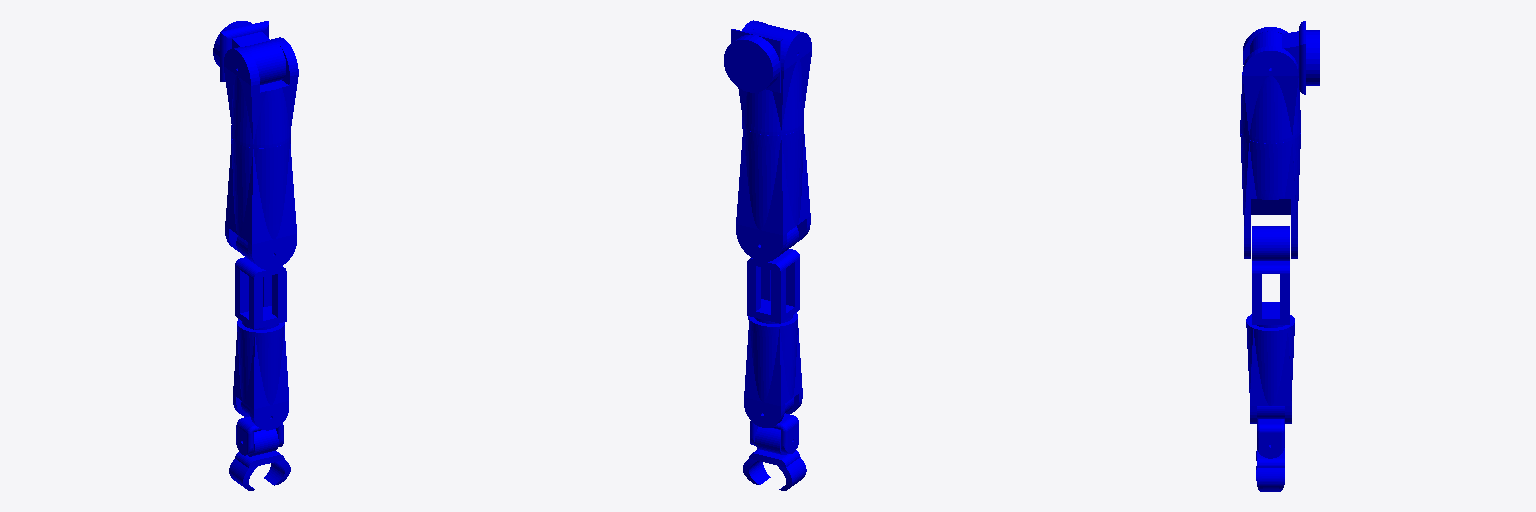
The robot description file, URDF, robot "brazo":
<?xml version="1.0"?>

<robot name="brazo">

  <!-- Color of materials -->
  <material name="white">
    <color rgba="1 1 1 1"/>
  </material>
  <material name="blue">
    <color rgba="0 0 1 1"/>
  </material>
  <material name="black">
    <color rgba="0 0 0 1"/>
  </material>

  <link name="base">
    <visual>
      <geometry>
        <cylinder length="0.02" radius="0.04"/>
      </geometry>
      <origin rpy="1.5708 0 0" xyz="0 0.01 0"/>
      <material name="blue" />
    </visual>
    <collision>
      <origin rpy="1.5708 0 0" xyz="0 0.01 0"/>
      <geometry>
        <cylinder length="0.02" radius="0.04"/>
      </geometry>
    </collision>
    <inertial>
      <mass value="1" />
      <inertia ixx="0.000508214" ixy="0.0" ixz="0.0" iyy="0.000498718" iyz="0.00001661" izz="0.000335888" />
    </inertial>
  </link>
  <gazebo reference="base">
    <material>Gazebo/White</material>
  </gazebo>

  <joint name="base_joint" type="revolute">
    <parent link="base"/>
    <child link="hombro"/>
    <origin rpy="1.5708 0 0" xyz="0 0 0"/>
    <axis xyz="0 0 1" />
    <limit effort="300" velocity="0.1" lower="-3.1" upper="3.1"/>
    <dynamics damping="50" friction="1"/>
  </joint>

  <link name="hombro">
    <visual>
      <geometry>
        <mesh filename="package://proy/meshes/Hombro.stl" scale="0.01 0.01 0.01"/>
      </geometry>
      <origin rpy="0 0 0" xyz="-0.04 -0.04 0"/>
      <material name="blue" />
    </visual>
    <collision>
      <origin rpy="1.5708 0 0" xyz="0 0.01 0"/>
      <geometry>
        <mesh filename="package://proy/meshes/Hombro.stl" scale="0.01 0.01 0.01"/>
      </geometry>
    </collision>
    <inertial>
      <mass value="0.576" />
      <inertia ixx="0.000508214" ixy="0.0" ixz="0.0" iyy="0.000498718" iyz="0.00001661" izz="0.000335888" />
    </inertial>
  </link>
  <gazebo reference="hombro">
    <material>Gazebo/White</material>
  </gazebo>

  <joint name="hombro_joint" type="revolute">
    <parent link="hombro"/>
    <child link="antebrazo1"/>
    <origin rpy="1.5708 0 -1.5708" xyz="0 0 0.05"/>
    <axis xyz="0 0 1" />
    <limit effort="300" velocity="0.1" lower="-0.2" upper="3.1"/>
    <dynamics damping="50" friction="1"/>
  </joint>

  <link name="antebrazo1">
    <visual>
      <geometry>
        <mesh filename="package://proy/meshes/Antebrazo1.stl" scale="0.01 0.01 0.01"/>
      </geometry>
      <origin rpy="0 0 1.5708" xyz="0.01 0 0"/>
      <material name="blue" />
    </visual>
    <collision>
      <origin rpy="0 0 1.5708" xyz="0.01 0 0"/>
      <geometry>
        <mesh filename="package://proy/meshes/Antebrazo1.stl" scale="0.01 0.01 0.01"/>
      </geometry>
    </collision>
    <inertial>
      <mass value="1.715" />
      <inertia ixx="0.003185839" ixy="0.0" ixz="0.0" iyy="0.001779619" iyz="0.0" izz="0.002999715" />
    </inertial>
  </link>
  <gazebo reference="antebrazo1">
    <material>Gazebo/White</material>
  </gazebo>

  <joint name="antebrazo_joint" type="revolute">
    <parent link="antebrazo1"/>
    <child link="antebrazo2"/>
    <origin rpy="1.5708 0 1.5708" xyz="0 0 0"/>
    <axis xyz="0 0 1" />
    <limit effort="300" velocity="0.1" lower="-0.85" upper="0.85"/>
    <dynamics damping="50" friction="1"/>
  </joint>

  <link name="antebrazo2">
    <visual>
      <geometry>
        <mesh filename="package://proy/meshes/Antebrazo2.stl" scale="0.01 0.01 0.01"/>
      </geometry>
      <origin rpy="1.5708 3.1416 0" xyz="0 0 0.1152"/>
      <material name="blue" />
    </visual>
    <collision>
      <origin rpy="1.5708 3.1416 0" xyz="0 0 0.1152"/>
      <geometry>
        <mesh filename="package://proy/meshes/Antebrazo2.stl" scale="0.01 0.01 0.01"/>
      </geometry>
    </collision>
    <inertial>
      <mass value="1.928" />
      <inertia ixx="0.005364893" ixy="0.0" ixz="0.0" iyy="0.001979365" iyz="0.000182633" izz="0.005562178" />
    </inertial>
  </link>
  <gazebo reference="antebrazo2">
    <material>Gazebo/White</material>
  </gazebo>

  <joint name="ante_brazo_joint" type="revolute">
    <parent link="antebrazo2"/>
    <child link="brazo1"/>
    <origin rpy="1.5708 0 1.5708" xyz="0 0 0.29"/>
    <axis xyz="0 0 1" />
    <limit effort="300" velocity="0.1" lower="-0.85" upper="2.2"/>
    <dynamics damping="50" friction="1"/>
  </joint>

  <link name="brazo1">
    <visual>
      <geometry>
        <mesh filename="package://proy/meshes/Brazo1.stl" scale="0.01 0.01 0.01"/>
      </geometry>
      <origin rpy="1.5708 0 3.1416" xyz="0.028 0.028 -0.028"/>
      <material name="blue" />
    </visual>
    <collision>
      <origin rpy="1.5708 0 3.1416" xyz="0.028 0.028 -0.028"/>
      <geometry>
        <mesh filename="package://proy/meshes/Brazo1.stl" scale="0.01 0.01 0.01"/>
      </geometry>
    </collision>
    <inertial>
      <mass value="0.651" />
      <inertia ixx="0.001525119" ixy="0.0" ixz="0.0" iyy="0.001494691" iyz="0.0" izz="0.000350306" />
    </inertial>
  </link>
  <gazebo reference="brazo1">
    <material>Gazebo/White</material>
  </gazebo>

  <joint name="brazo_joint" type="revolute">
    <parent link="brazo1"/>
    <child link="brazo2"/>
    <origin rpy="1.5708 0 3.1416" xyz="0 0 0"/>
    <axis xyz="0 0 1" />
    <limit effort="300" velocity="0.1" lower="-1.85" upper="1.85"/>
    <dynamics damping="50" friction="1"/>
  </joint>

  <link name="brazo2">
    <visual>
      <geometry>
        <mesh filename="package://proy/meshes/Brazo2.stl" scale="0.01 0.01 0.01"/>
      </geometry>
      <origin rpy="-1.5708 0 0" xyz="0 0 0.124"/>
      <material name="blue" />
    </visual>
    <collision>
      <origin rpy="-1.5708 0 0" xyz="0 0 0.124"/>
      <geometry>
        <mesh filename="package://proy/meshes/Brazo2.stl" scale="0.01 0.01 0.01"/>
      </geometry>
    </collision>
    <inertial>
      <mass value="1.262" />
      <inertia ixx="0.002423490" ixy="0.0" ixz="0.0" iyy="0.000759478" iyz="0.0" izz="0.002382187" />
    </inertial>
  </link>
  <gazebo reference="brazo2">
    <material>Gazebo/White</material>
  </gazebo>

  <joint name="brazo_mano_joint" type="revolute">
    <parent link="brazo2"/>
    <child link="mano1"/>
    <origin rpy="1.5708 0 3.1416" xyz="0 0 0.26"/>
    <axis xyz="0 0 1" />
    <limit effort="300" velocity="0.1" lower="-0.85" upper="0.85"/>
    <dynamics damping="50" friction="1"/>
  </joint>

  <link name="mano1">
    <visual>
      <geometry>
        <mesh filename="package://proy/meshes/Mano1.stl" scale="0.01 0.01 0.01"/>
      </geometry>
      <origin rpy="1.5708 0 0" xyz="-0.028 0.028 -0.02"/>
      <material name="blue" />
    </visual>
    <collision>
      <origin rpy="1.5708 0 0" xyz="-0.028 0.028 -0.02"/>
      <geometry>
        <mesh filename="package://proy/meshes/Mano1.stl" scale="0.01 0.01 0.01"/>
      </geometry>
    </collision>
    <inertial>
      <mass value="0.266" />
      <inertia ixx="0.000169631" ixy="0.0" ixz="0.0" iyy="0.000211352" iyz="0.0" izz="0.000107806" />
    </inertial>
  </link>
  <gazebo reference="mano1">
    <material>Gazebo/White</material>
  </gazebo>

  <joint name="mano_joint" type="revolute">
    <parent link="mano1"/>
    <child link="mano2"/>
    <origin rpy="1.5708 0 1.5708" xyz="0 0.05 0"/>
    <axis xyz="0 0 1" />
    <limit effort="300" velocity="0.1" lower="-0.85" upper="0.85"/>
    <dynamics damping="50" friction="1"/>
  </joint>

  <link name="mano2">
    <visual>
      <geometry>
        <mesh filename="package://proy/meshes/Mano2.stl" scale="0.01 0.01 0.01"/>
      </geometry>
      <origin rpy="0 1.5708 3.1416" xyz="0.032 0.02 0.032"/>
      <material name="blue" />
    </visual>
    <collision>
      <origin rpy="0 1.5708 3.1416" xyz="0.032 0.02 0.032"/>
      <geometry>
        <mesh filename="package://proy/meshes/Mano2.stl" scale="0.01 0.01 0.01"/>
      </geometry>
    </collision>
    <inertial>
      <mass value="0.286" />
      <inertia ixx="0.000183689" ixy="0.0" ixz="0.0" iyy="0.000270447" iyz="0.0" izz="0.000152822" />
    </inertial>
  </link>
  <gazebo reference="mano2">
    <material>Gazebo/White</material>
  </gazebo>

  <joint name="fixed_joint" type="fixed">
    <parent link="mano2"/>
    <child link="efector"/>
    <origin rpy="1.5708 0 1.5708" xyz="0 0 0"/>
    <axis xyz="0 0 1" />
    <limit effort="300" velocity="0.1" lower="-0.85" upper="0.85"/>
    <dynamics damping="50" friction="1"/>
  </joint>

  <link name="efector">
  </link>

  <!-- Transmissions -->
  <transmission name="tran1">
    <type>transmission_interface/SimpleTransmission</type>
    <joint name="base_joint">
      <hardwareInterface>hardware_interface/EffortJointInterface</hardwareInterface>
    </joint>
    <actuator name="motor1">
      <hardwareInterface>hardware_interface/EffortJointInterface</hardwareInterface>
      <mechanicalReduction>1</mechanicalReduction>
    </actuator>
  </transmission>

  <transmission name="tran2">
    <type>transmission_interface/SimpleTransmission</type>
    <joint name="hombro_joint">
      <hardwareInterface>hardware_interface/EffortJointInterface</hardwareInterface>
    </joint>
    <actuator name="motor2">
      <hardwareInterface>hardware_interface/EffortJointInterface</hardwareInterface>
      <mechanicalReduction>1</mechanicalReduction>
    </actuator>
  </transmission>

  <transmission name="tran3">
    <type>transmission_interface/SimpleTransmission</type>
    <joint name="antebrazo_joint">
      <hardwareInterface>hardware_interface/EffortJointInterface</hardwareInterface>
    </joint>
    <actuator name="motor3">
      <hardwareInterface>hardware_interface/EffortJointInterface</hardwareInterface>
      <mechanicalReduction>1</mechanicalReduction>
    </actuator>
  </transmission>

  <transmission name="tran4">
    <type>transmission_interface/SimpleTransmission</type>
    <joint name="ante_brazo_joint">
      <hardwareInterface>hardware_interface/EffortJointInterface</hardwareInterface>
    </joint>
    <actuator name="motor4">
      <hardwareInterface>hardware_interface/EffortJointInterface</hardwareInterface>
      <mechanicalReduction>1</mechanicalReduction>
    </actuator>
  </transmission>

  <transmission name="tran5">
    <type>transmission_interface/SimpleTransmission</type>
    <joint name="brazo_joint">
      <hardwareInterface>hardware_interface/EffortJointInterface</hardwareInterface>
    </joint>
    <actuator name="motor5">
      <hardwareInterface>hardware_interface/EffortJointInterface</hardwareInterface>
      <mechanicalReduction>1</mechanicalReduction>
    </actuator>
  </transmission>

  <transmission name="tran6">
    <type>transmission_interface/SimpleTransmission</type>
    <joint name="brazo_mano_joint">
      <hardwareInterface>hardware_interface/EffortJointInterface</hardwareInterface>
    </joint>
    <actuator name="motor6">
      <hardwareInterface>hardware_interface/EffortJointInterface</hardwareInterface>
      <mechanicalReduction>1</mechanicalReduction>
    </actuator>
  </transmission>

  <transmission name="tran7">
    <type>transmission_interface/SimpleTransmission</type>
    <joint name="mano_joint">
      <hardwareInterface>hardware_interface/EffortJointInterface</hardwareInterface>
    </joint>
    <actuator name="motor7">
      <hardwareInterface>hardware_interface/EffortJointInterface</hardwareInterface>
      <mechanicalReduction>1</mechanicalReduction>
    </actuator>
  </transmission>

   <!-- Plugin: ros_control -->
   <gazebo>
     <plugin name="gazebo_ros_control" filename="libgazebo_ros_control.so">
       <robotNamespace>/robot</robotNamespace>
       <legacyModeNS>true</legacyModeNS>
     </plugin>
   </gazebo>

</robot>

--- Facts derived from the render (not from the file) ---
The picture shows the robot from 3 angles, left to right: view 1: azimuth 30°, elevation 25°; view 2: azimuth 150°, elevation 25°; view 3: azimuth 270°, elevation 25°; orthographic projection.
Model brazo with 9 links and 8 joints (7 revolute, 1 fixed), rooted at base, posed all joints at 0.
Visible links, largest first — view 1: antebrazo2, antebrazo1, brazo2, brazo1, hombro, mano2, mano1; view 2: antebrazo2, brazo2, antebrazo1, brazo1, base, mano2, mano1, hombro; view 3: antebrazo1, antebrazo2, brazo2, brazo1, mano1, hombro, mano2, base.
Boxes of the visible links, <box> form: antebrazo2: <box>225,138,296,269</box>; antebrazo1: <box>224,37,298,147</box>; brazo2: <box>233,319,288,430</box>; brazo1: <box>235,235,286,329</box>; hombro: <box>220,21,285,84</box>; mano2: <box>229,429,290,490</box>; mano1: <box>236,401,283,455</box>; antebrazo2: <box>736,124,810,261</box>; brazo2: <box>744,312,802,427</box>; antebrazo1: <box>738,20,811,135</box>; brazo1: <box>747,226,799,323</box>; base: <box>724,34,779,92</box>; mano2: <box>743,427,806,490</box>; mano1: <box>750,397,798,453</box>; hombro: <box>731,23,791,92</box>; antebrazo1: <box>1240,27,1300,143</box>; antebrazo2: <box>1240,133,1300,258</box>; brazo2: <box>1246,314,1294,423</box>; brazo1: <box>1252,226,1289,327</box>; mano1: <box>1257,406,1284,458</box>; hombro: <box>1250,21,1305,94</box>; mano2: <box>1256,444,1284,491</box>; base: <box>1306,30,1319,85</box>.
Bounding box of the posed robot: 0.087 × 0.1135 × 0.712 m (x, y, z).
7 mesh visuals loaded from 7 distinct referenced files (7 binary STL).